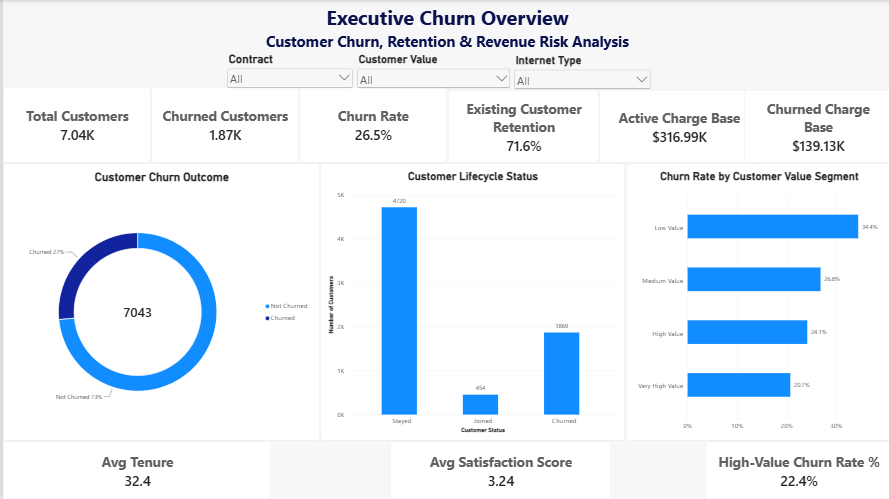

Layout of this report page (visuals, bound fields, positions):
{"tool":"powerbi","page":{"name":"Executive Overview","canvas":[1920,1080],"ordinal":0},"visuals":[{"type":"cardVisual","fields":{"Data":["_Measures.Total Customers"]},"box":[0,187.9,319.7,164.2],"z":0},{"type":"cardVisual","fields":{"Data":["_Measures.Churned Customers"]},"box":[319.7,187.9,319.7,164.2],"z":1},{"type":"cardVisual","fields":{"Data":["_Measures.Churn Rate %"]},"box":[639.4,187.9,319.7,164.2],"z":2},{"type":"cardVisual","fields":{"Data":["_Measures.Existing Customer Retention Rate %"]},"box":[961.2,194.4,326.2,157.7],"z":3},{"type":"textbox","box":[0,9.1,1920,102.7],"z":4},{"type":"slicer","fields":{"Values":["Customer Detail.contract"]},"box":[479.4,111.9,280.8,82.2],"z":5},{"type":"slicer","fields":{"Values":["Customer Detail.customer_value_segment"]},"box":[760.2,114.1,340.2,79.9],"z":6},{"type":"slicer","fields":{"Values":["Customer Detail.internet_type"]},"box":[1100.4,116.4,303.6,77.6],"z":7},{"type":"cardVisual","fields":{"Data":["_Measures.Active Monthly Charge Base"]},"box":[1287.4,194.4,345.6,157.7],"z":8},{"type":"cardVisual","fields":{"Data":["_Measures.Churned Monthly Charge Base"]},"box":[1600.6,194.4,319.7,157.7],"z":9},{"type":"donutChart","title":"Customer Churn Outcome","fields":{"Category":["Customer Detail.churn_status"],"Y":["_Measures.Total Customers"]},"box":[0,352.1,684.7,600.5],"z":10},{"type":"clusteredColumnChart","title":"Customer Lifecycle Status","fields":{"Category":["Customer Detail.customer_status"],"Y":["_Measures.Total Customers"]},"box":[684.7,352.1,658.8,600.5],"z":11},{"type":"barChart","title":"Churn Rate by Customer Value Segment","fields":{"Category":["Customer Detail.customer_value_segment"],"Y":["_Measures.Churn Rate %"]},"box":[1345.7,352.1,574.6,600.5],"z":12},{"type":"cardVisual","fields":{"Data":["_Measures.Avg Tenure Months"]},"box":[0,952,579.9,127.8],"z":13},{"type":"cardVisual","fields":{"Data":["_Measures.Avg Satisfaction Score"]},"box":[835.6,952,477.1,127.8],"z":14},{"type":"cardVisual","fields":{"Data":["_Measures.High-Value Churn Rate %"]},"box":[1515.9,952,404.1,127.8],"z":15}]}

Visuals, with their boxes in screenshot pixels (x1, y1, x2, y2), scaled from the page's 1920x1080 canvas onto the 889x499 screenshot:
cardVisual - _Measures.Total Customers: bbox=(0, 87, 148, 163)
cardVisual - _Measures.Churned Customers: bbox=(148, 87, 296, 163)
cardVisual - _Measures.Churn Rate %: bbox=(296, 87, 444, 163)
cardVisual - _Measures.Existing Customer Retention Rate %: bbox=(445, 90, 596, 163)
textbox: bbox=(0, 4, 888, 52)
slicer - Customer Detail.contract: bbox=(222, 52, 352, 90)
slicer - Customer Detail.customer_value_segment: bbox=(352, 53, 510, 90)
slicer - Customer Detail.internet_type: bbox=(510, 54, 650, 90)
cardVisual - _Measures.Active Monthly Charge Base: bbox=(596, 90, 756, 163)
cardVisual - _Measures.Churned Monthly Charge Base: bbox=(741, 90, 888, 163)
"Customer Churn Outcome" donutChart: bbox=(0, 163, 317, 440)
"Customer Lifecycle Status" clusteredColumnChart: bbox=(317, 163, 622, 440)
"Churn Rate by Customer Value Segment" barChart: bbox=(623, 163, 888, 440)
cardVisual - _Measures.Avg Tenure Months: bbox=(0, 440, 269, 498)
cardVisual - _Measures.Avg Satisfaction Score: bbox=(387, 440, 608, 498)
cardVisual - _Measures.High-Value Churn Rate %: bbox=(702, 440, 888, 498)
